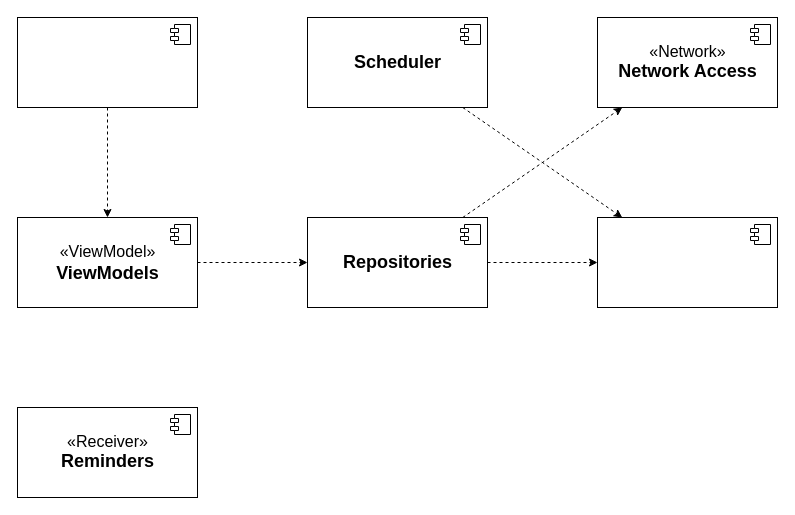
This 795x515 diagram has some shape labels left out. The centre of each missing label's shape, as x and y in pixels:
"Views" belongs at point (107, 62).
"«Database» Local Database" belongs at point (687, 262).
